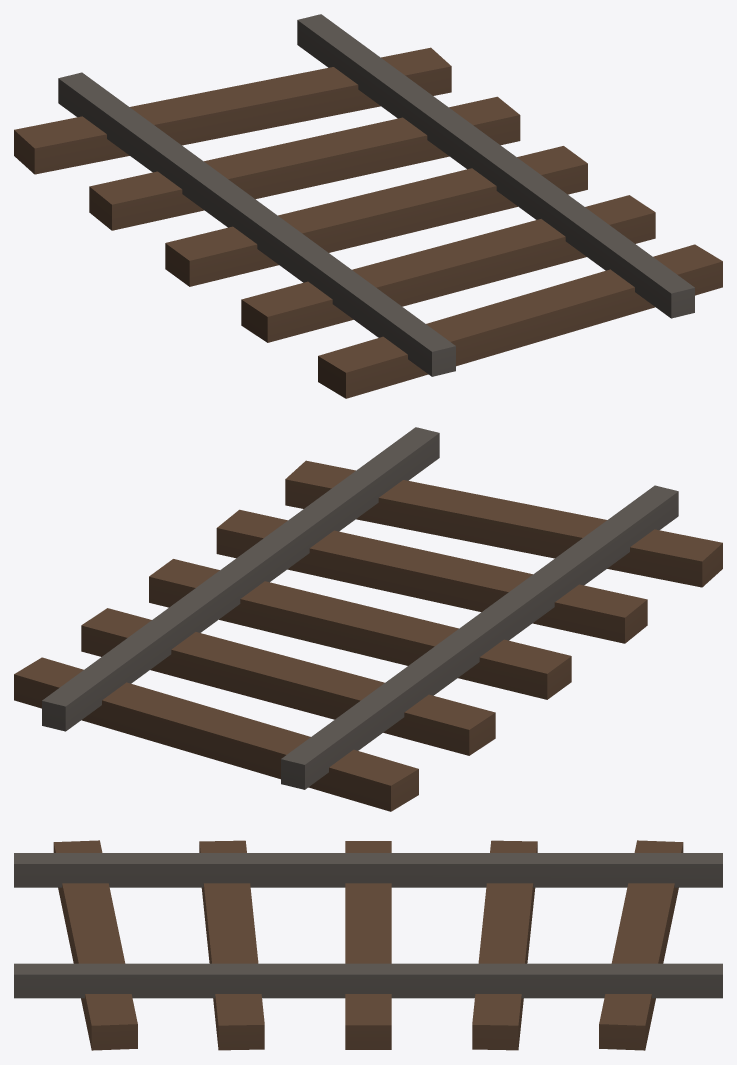
File: BM_RailBroken.glb
3 renders of one model, top to bottom at view 1: azimuth 30°, elevation 25°; view 2: azimuth 150°, elevation 25°; view 3: azimuth 270°, elevation 25°, orthographic. The views are drawn at different scales.
Visible parts, largest first — view 1: BM_RailBroken__Body; view 2: BM_RailBroken__Body; view 3: BM_RailBroken__Body.
Boxes of the visible parts, x1,y1,x2,y2 form: BM_RailBroken__Body: [14, 14, 722, 398]; BM_RailBroken__Body: [14, 427, 722, 811]; BM_RailBroken__Body: [14, 840, 722, 1050].
Size of the model in its own units: 8.04 by 0.89 by 13.
